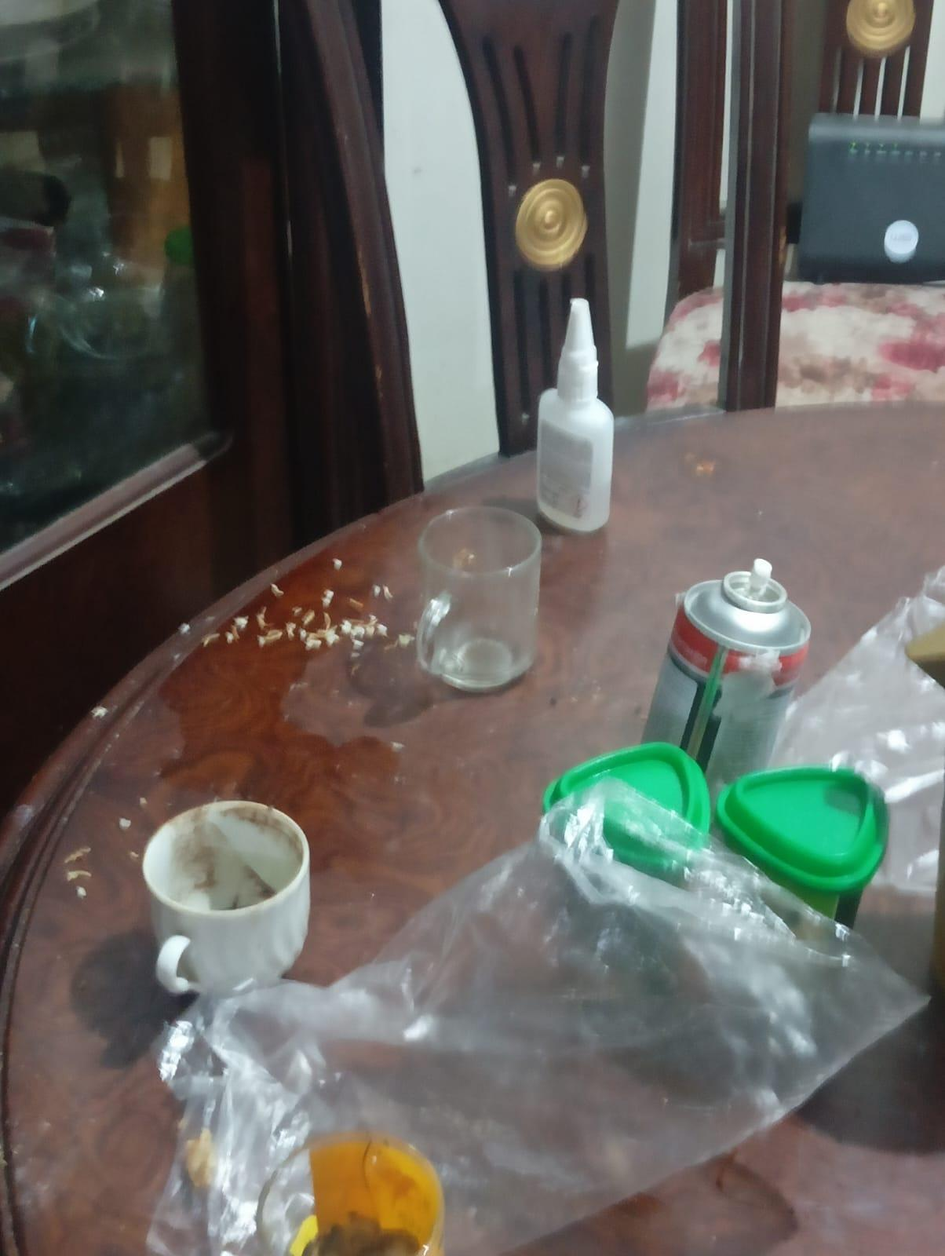cup: (142, 801, 308, 993), (257, 1131, 443, 1255), (417, 506, 540, 691)
